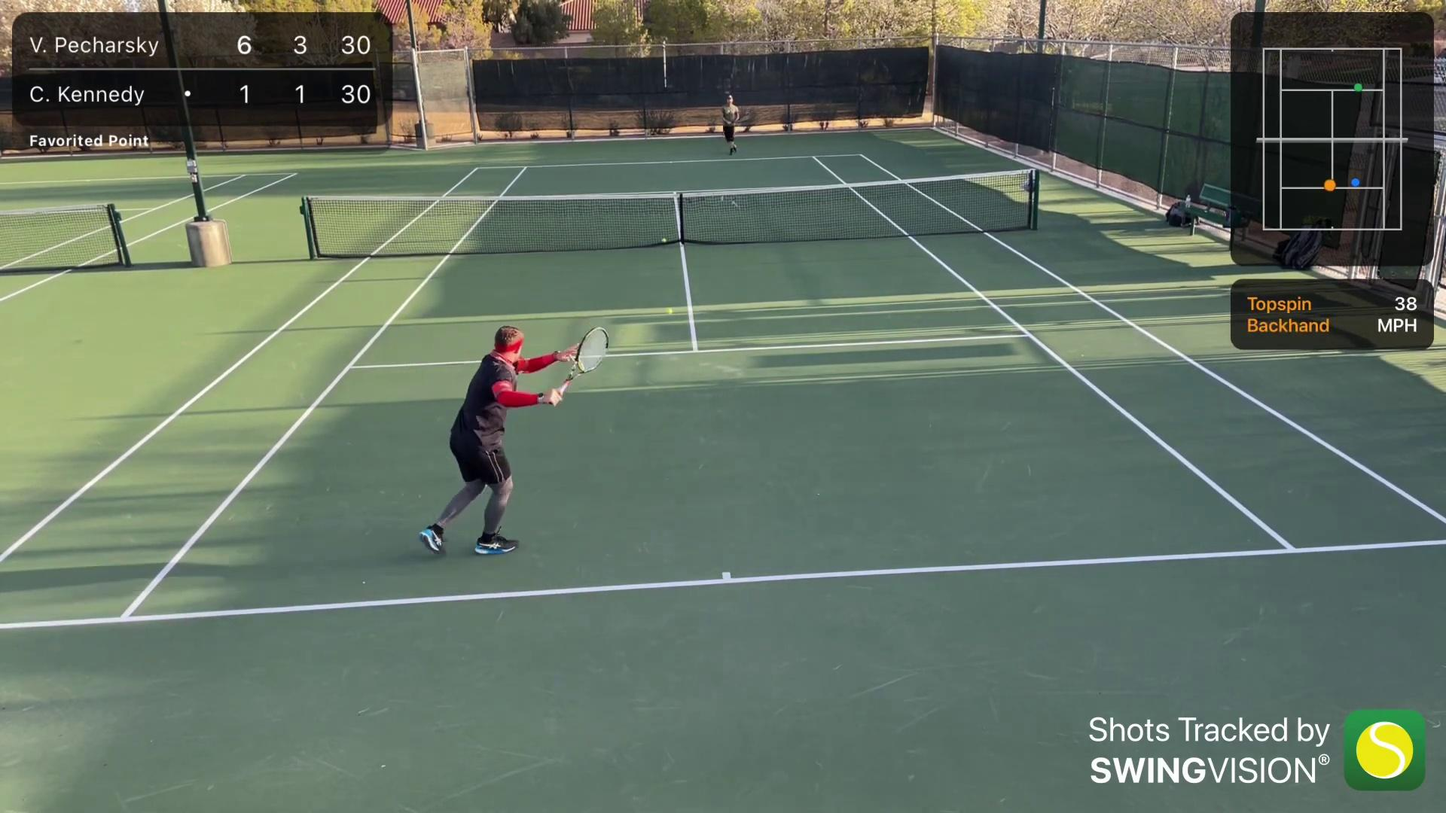ball: (664, 306, 675, 318), (659, 236, 667, 244)
